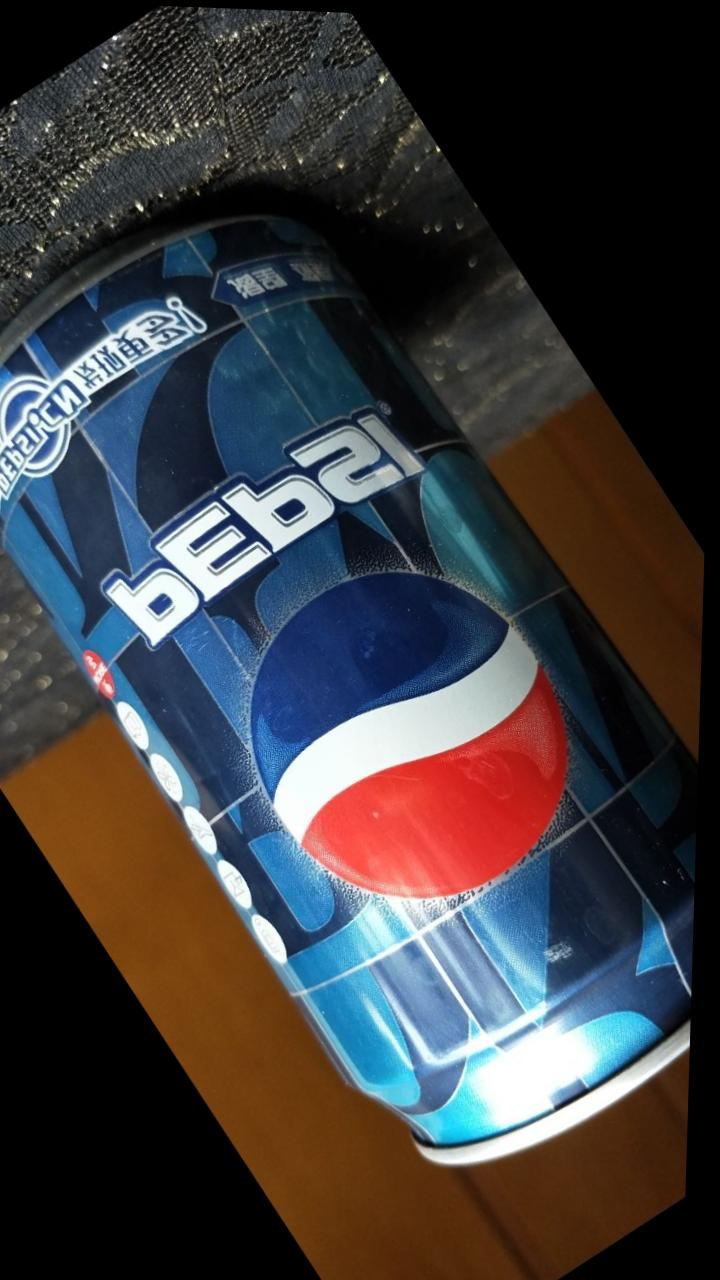metal: (0, 217, 695, 1157)
